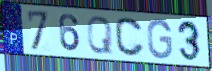3: (176, 19, 203, 64)
6: (58, 13, 81, 53)
7: (27, 8, 51, 52)
C: (114, 17, 146, 59)
G: (146, 18, 174, 61)
Q: (86, 15, 114, 56)
